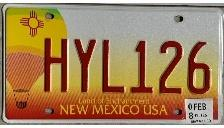1: (129, 39, 155, 95)
2: (157, 39, 186, 95)
6: (185, 39, 213, 95)
H: (41, 35, 70, 94)
L: (101, 38, 127, 94)
Y: (72, 37, 98, 95)
